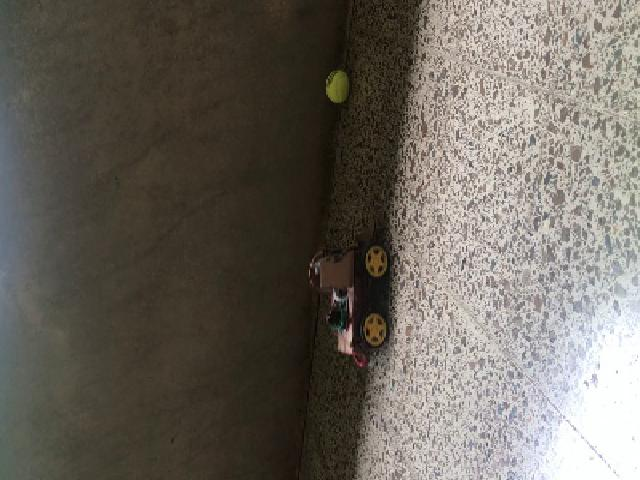Ball: (325, 68, 347, 103)
Robot: (306, 218, 390, 355)
